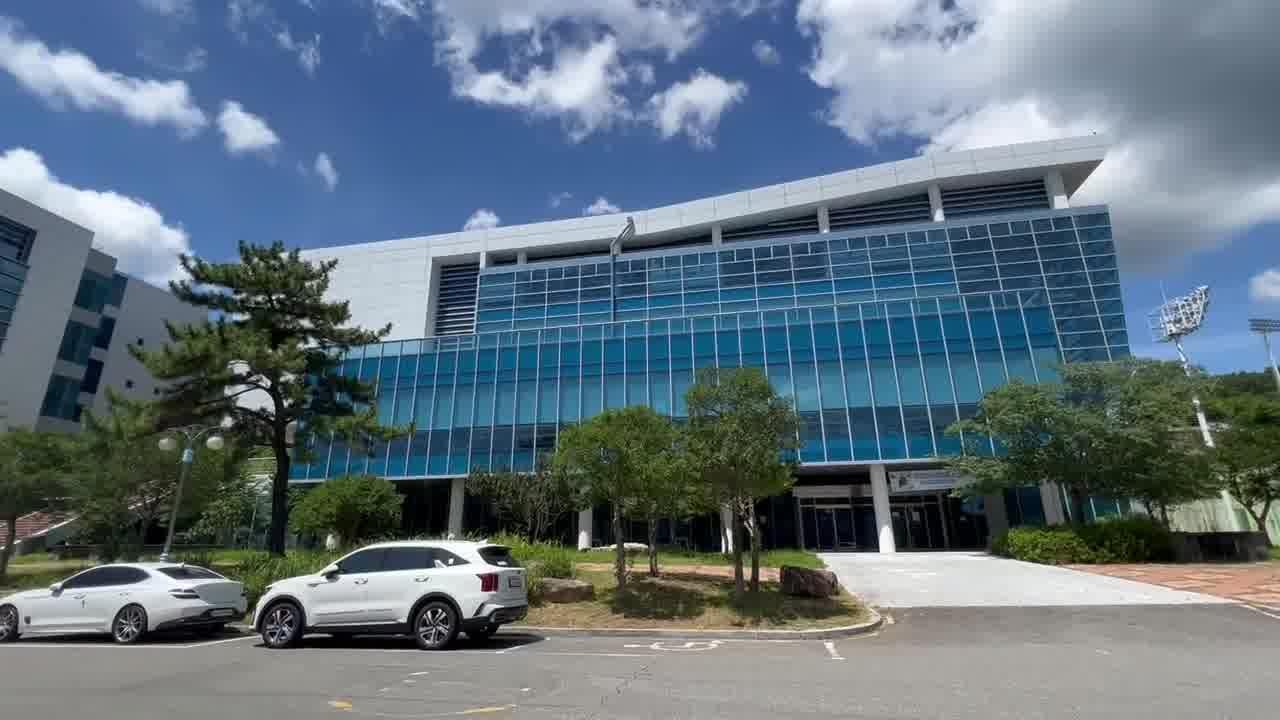building: (382, 134, 1140, 402)
